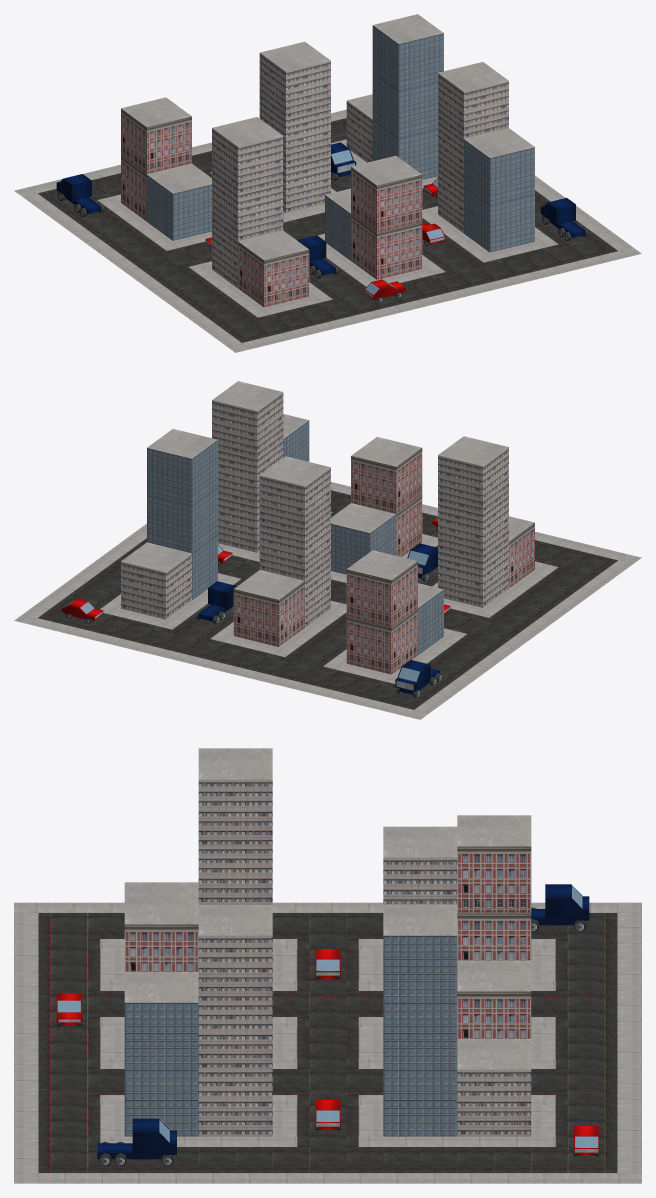
The model's file is planet_medium_01.fbx.
3 renders of one model, top to bottom at view 1: azimuth 30°, elevation 25°; view 2: azimuth 150°, elevation 25°; view 3: azimuth 270°, elevation 25°, orthographic. The views are drawn at different scales.
Visible parts, largest first — view 1: planet_medium_01; view 2: planet_medium_01; view 3: planet_medium_01.
Part boxes in pixels (bbox=[...]): planet_medium_01: bbox=[14, 14, 641, 352]; planet_medium_01: bbox=[14, 381, 641, 719]; planet_medium_01: bbox=[14, 748, 641, 1183].
Bounding box in the file's own units: 5400 × 1801 × 5100.
